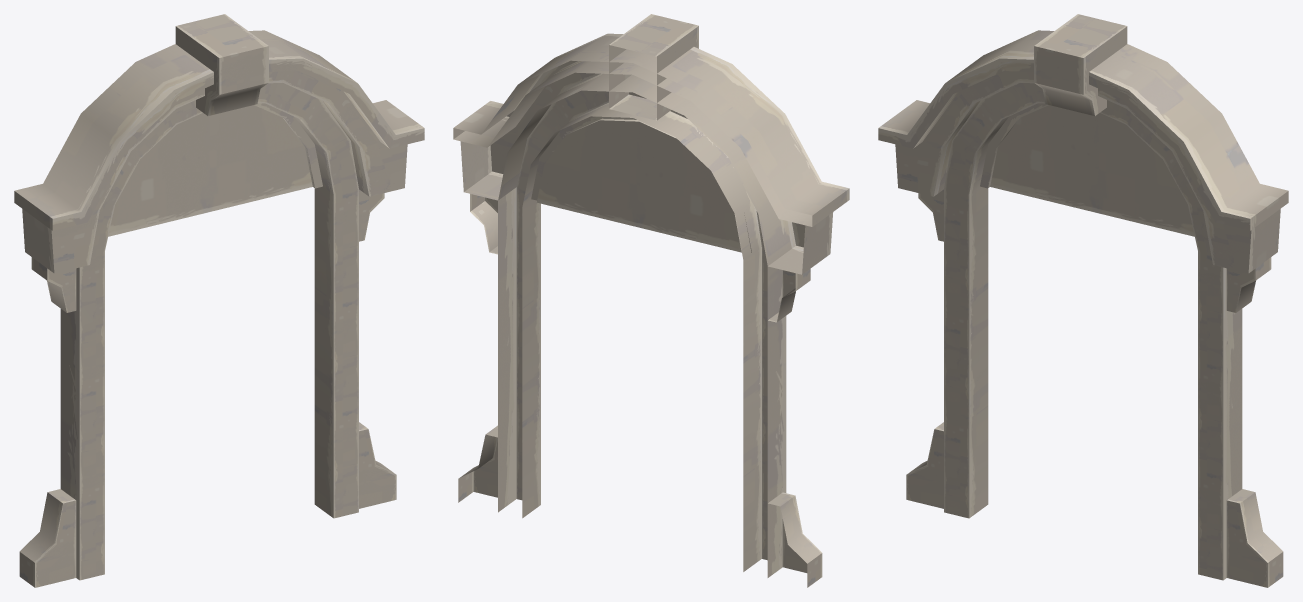
The model's file is MOD_Door_03_framedeco_02_02.fbx.
The picture shows the model from 3 angles, left to right: view 1: azimuth 30°, elevation 25°; view 2: azimuth 150°, elevation 25°; view 3: azimuth 330°, elevation 25°; orthographic projection. The views are drawn at different scales.
Visible parts, largest first — view 1: MOD_Door_03_framedeco_02_02; view 2: MOD_Door_03_framedeco_02_02; view 3: MOD_Door_03_framedeco_02_02.
Boxes of the visible parts, x1=… form: MOD_Door_03_framedeco_02_02: x1=14, y1=14, x2=424, y2=587; MOD_Door_03_framedeco_02_02: x1=453, y1=14, x2=849, y2=587; MOD_Door_03_framedeco_02_02: x1=878, y1=14, x2=1288, y2=587.
Size of the model in its own units: 312 by 411 by 63.59.
